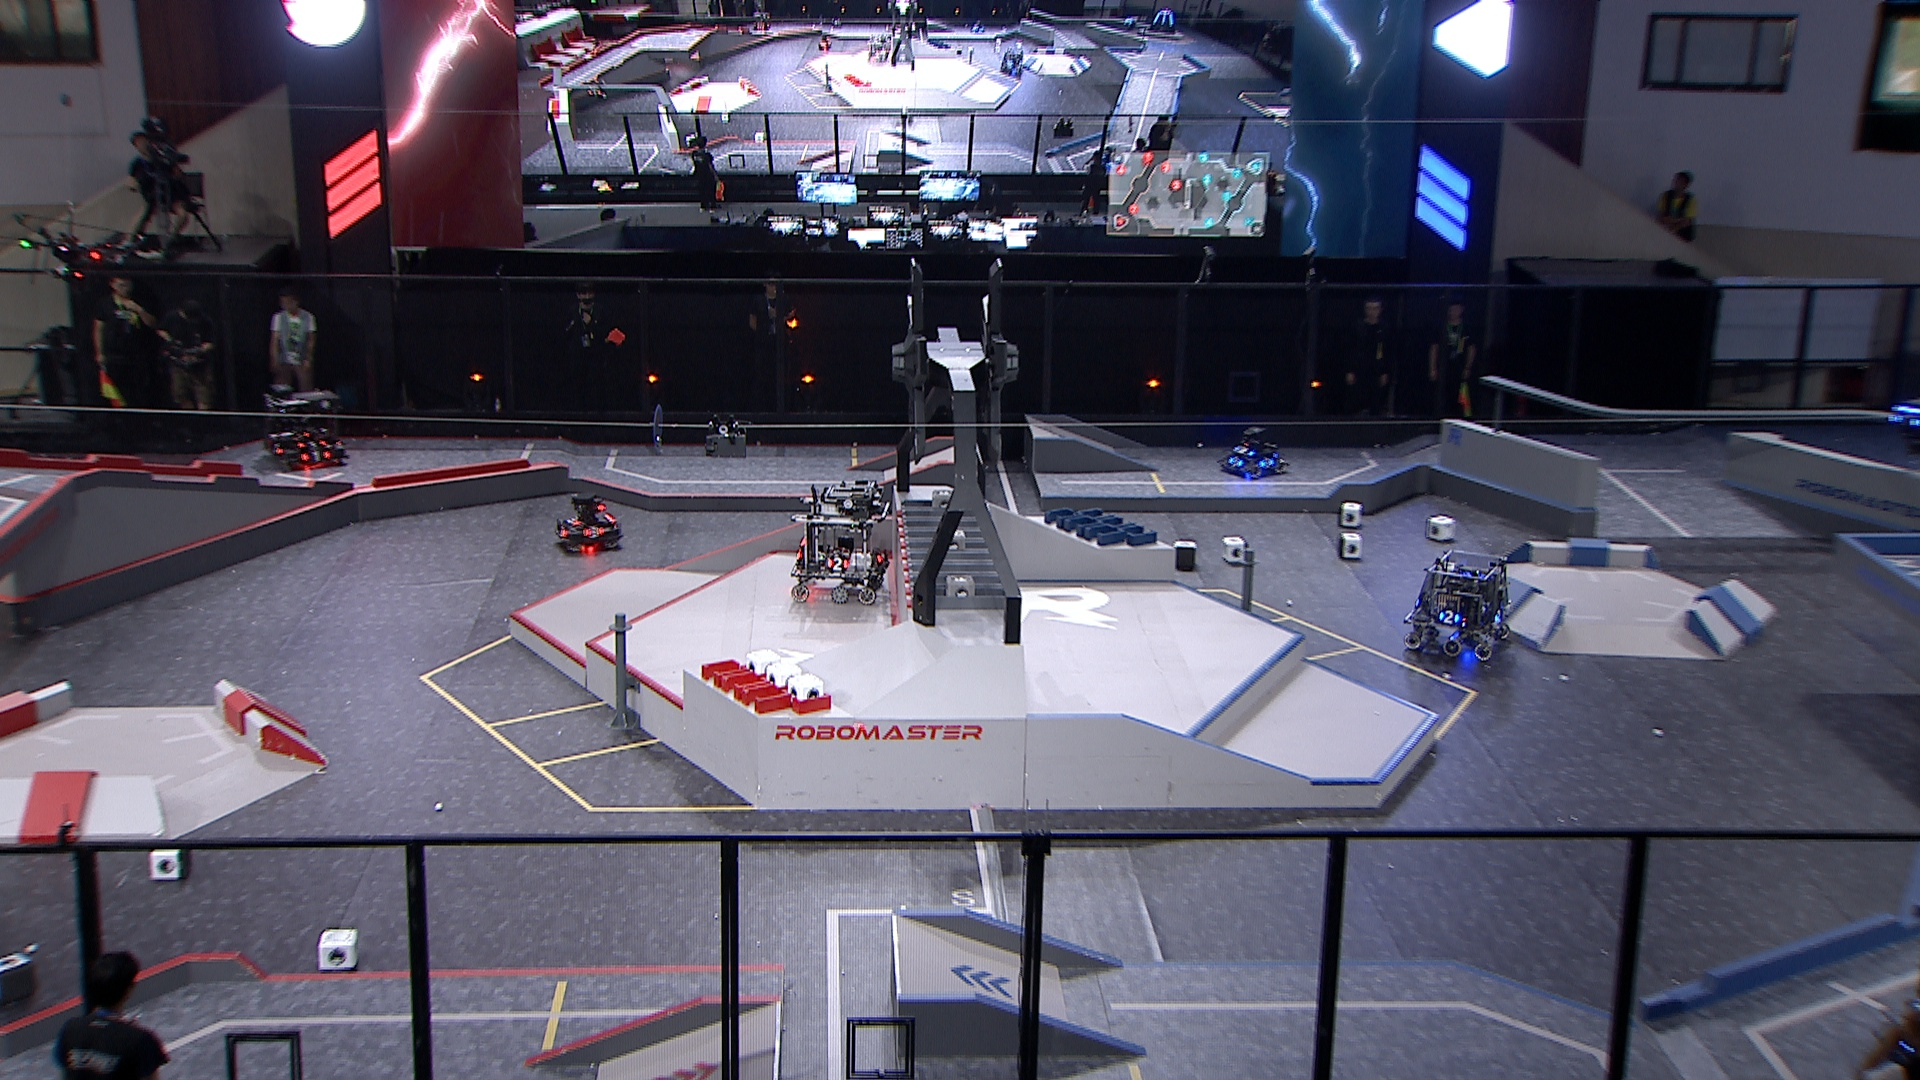armor: (1887, 407, 1917, 429), (828, 553, 852, 574), (301, 448, 328, 465), (580, 522, 604, 541), (872, 546, 891, 567), (295, 438, 328, 450), (266, 436, 285, 458), (1439, 609, 1461, 626), (1257, 452, 1276, 471), (1233, 442, 1254, 458), (562, 512, 584, 526), (1225, 455, 1245, 469), (1490, 608, 1505, 626)
car: (785, 479, 891, 607), (1400, 545, 1514, 661), (261, 382, 351, 472), (551, 491, 622, 556), (1215, 425, 1292, 483)
watcher: (1883, 392, 1920, 460)
